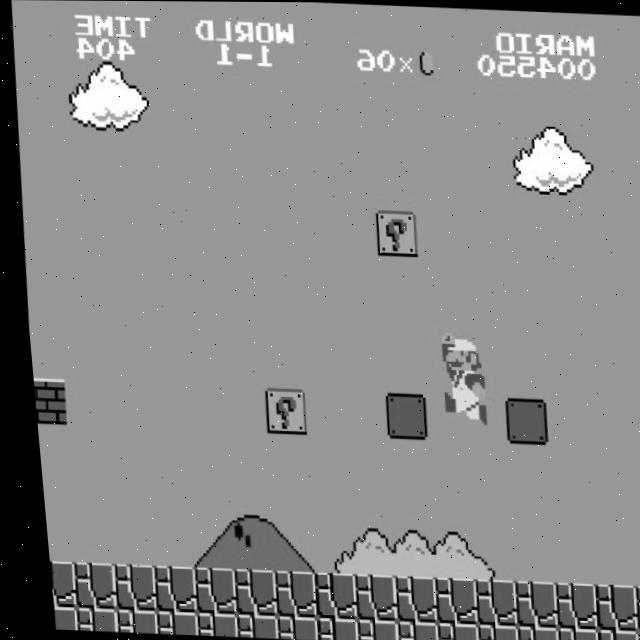1- brick_block: (26, 377, 61, 424)
13- mystery_block: (255, 387, 301, 434), (369, 210, 415, 256)
17- undestructible_block: (341, 573, 388, 621), (301, 572, 348, 619), (261, 570, 308, 617), (382, 574, 428, 622), (181, 566, 227, 614), (101, 563, 147, 611), (582, 583, 628, 630), (542, 581, 588, 628), (502, 580, 548, 627), (462, 578, 508, 625), (422, 576, 468, 623), (221, 568, 267, 615), (141, 565, 187, 612), (61, 562, 107, 609), (39, 559, 66, 606), (264, 615, 308, 640), (224, 614, 268, 638), (63, 607, 107, 631), (184, 612, 227, 636), (144, 611, 187, 635), (104, 609, 147, 633), (304, 617, 348, 640), (343, 618, 387, 640), (383, 620, 427, 640), (622, 584, 640, 632), (423, 621, 467, 640), (463, 623, 507, 640), (503, 625, 547, 640), (544, 626, 587, 640), (42, 605, 67, 628), (584, 628, 627, 640), (624, 629, 640, 640)
3- empty_block: (375, 392, 422, 439), (495, 397, 541, 444)
4- fire_mario: (432, 329, 484, 424)
